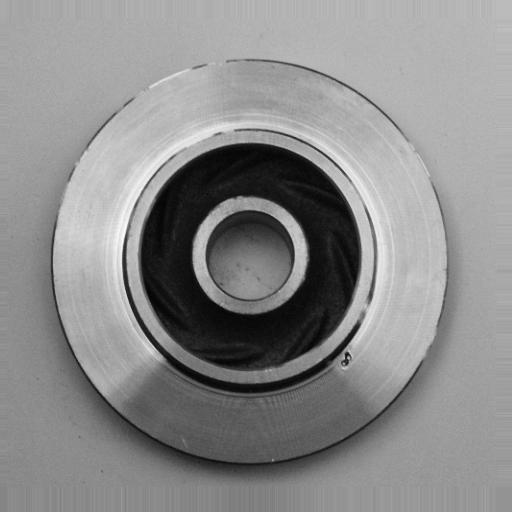crack: (335, 344, 358, 380)
scratch: (163, 120, 238, 160)
unpolished_casting: (49, 54, 446, 472)
